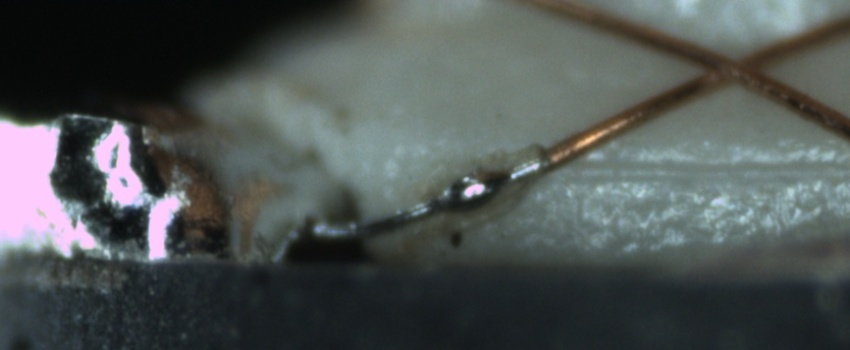CL: (682, 38, 779, 99)
DL: (561, 140, 850, 204)
TB: (444, 165, 499, 207)
TS: (309, 154, 549, 241)
TTCW: (307, 132, 586, 244)
